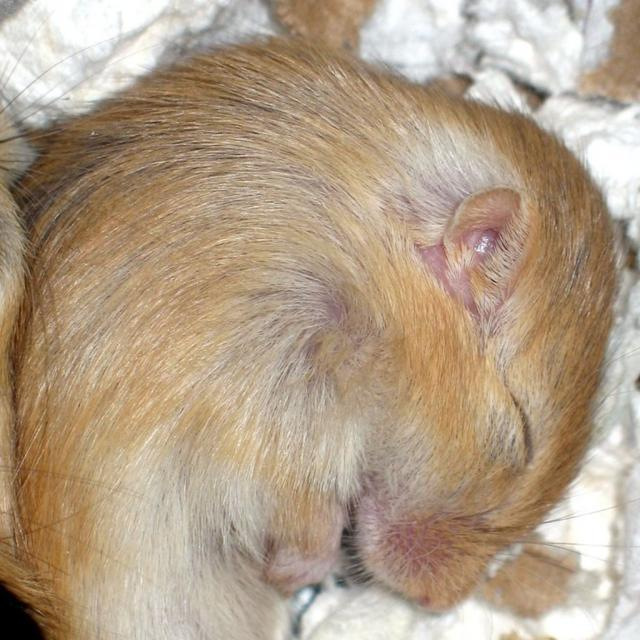rat: (0, 27, 621, 639)
